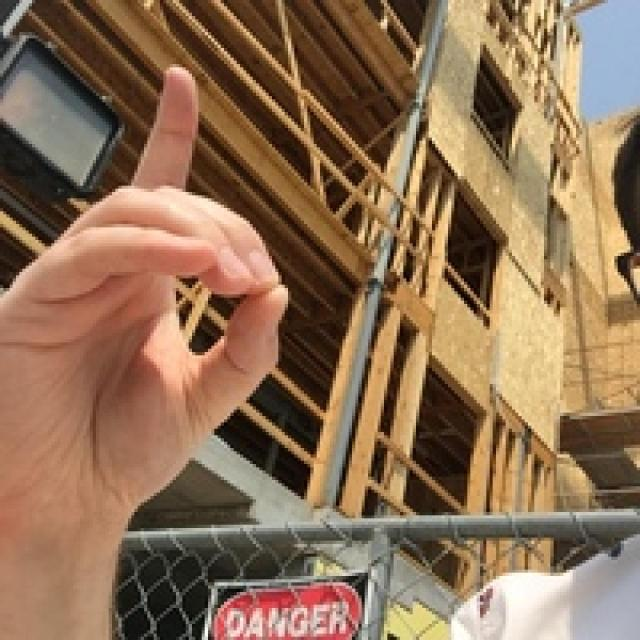D: (0, 17, 329, 538)
